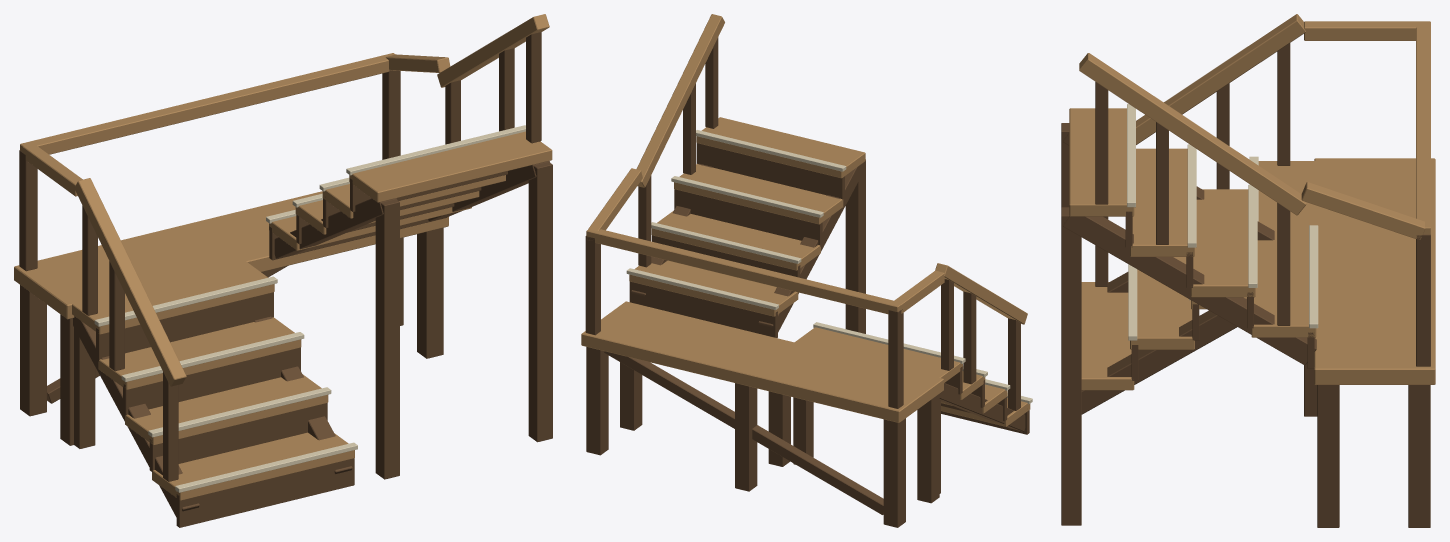
File: S014_turning_stair_rebuilt.glb
3 views of the same model, side by side, from view 1: azimuth 30°, elevation 25°; view 2: azimuth 150°, elevation 25°; view 3: azimuth 270°, elevation 25° (orthographic). The views are drawn at different scales.
Parts seen in each view (by area): view 1: Dark_stained_structural_timber, Scenic_framing_warm_bare_timber, Warm_matte_scenic_paint; view 2: Scenic_framing_warm_bare_timber, Dark_stained_structural_timber, Warm_matte_scenic_paint; view 3: Scenic_framing_warm_bare_timber, Dark_stained_structural_timber, Warm_matte_scenic_paint.
Boxes of the visible parts, x1,y1,x2,y2 form: Dark_stained_structural_timber: (19, 32, 552, 527); Scenic_framing_warm_bare_timber: (14, 14, 552, 500); Warm_matte_scenic_paint: (94, 125, 525, 492); Scenic_framing_warm_bare_timber: (581, 14, 1030, 426); Dark_stained_structural_timber: (585, 37, 1029, 527); Warm_matte_scenic_paint: (626, 130, 1032, 404); Scenic_framing_warm_bare_timber: (1069, 14, 1435, 390); Dark_stained_structural_timber: (1061, 43, 1430, 527); Warm_matte_scenic_paint: (1127, 104, 1318, 340).
Size of the model in its own units: 2.4 by 2.5 by 1.8.
